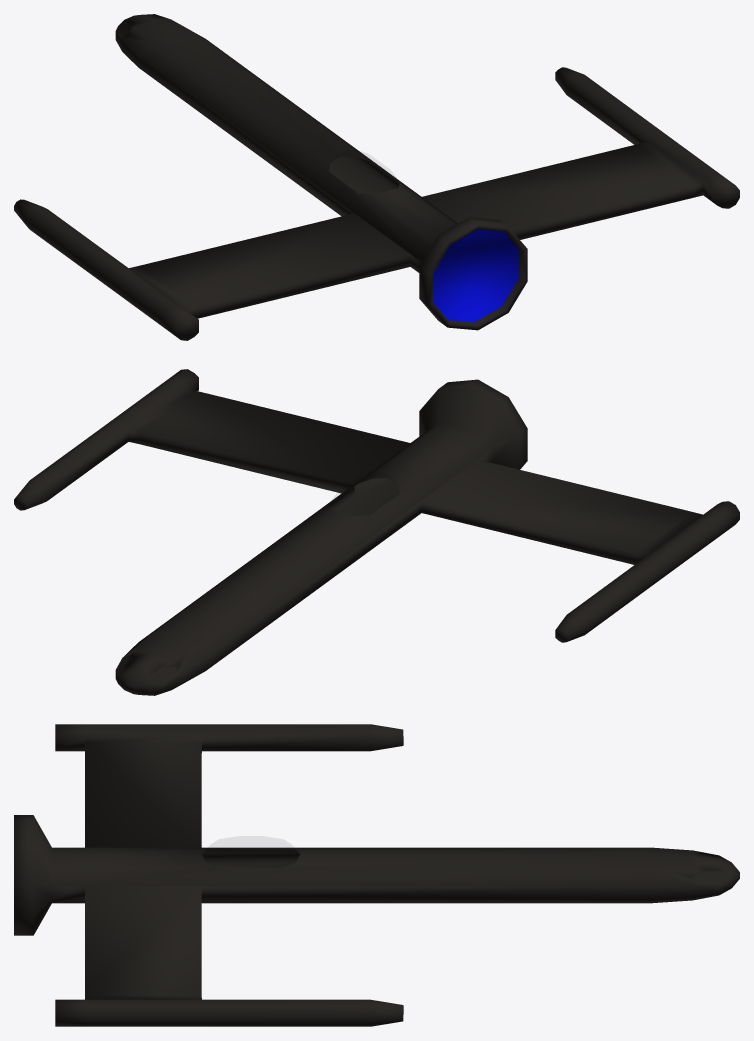
Rendered from MSFV5.obj.
The picture shows the model from 3 angles, top to bottom: view 1: azimuth 30°, elevation 25°; view 2: azimuth 150°, elevation 25°; view 3: azimuth 270°, elevation 25°; orthographic projection. The views are drawn at different scales.
Visible parts, largest first — view 1: Cylinder.001_Cylinder.008; view 2: Cylinder.001_Cylinder.008; view 3: Cylinder.001_Cylinder.008.
Part boxes in pixels (bbox=[...]): Cylinder.001_Cylinder.008: bbox=[14, 14, 739, 340]; Cylinder.001_Cylinder.008: bbox=[14, 369, 739, 695]; Cylinder.001_Cylinder.008: bbox=[14, 724, 739, 1026].
Bounding box in the file's own units: 20.54 × 3.7 × 21.99.
